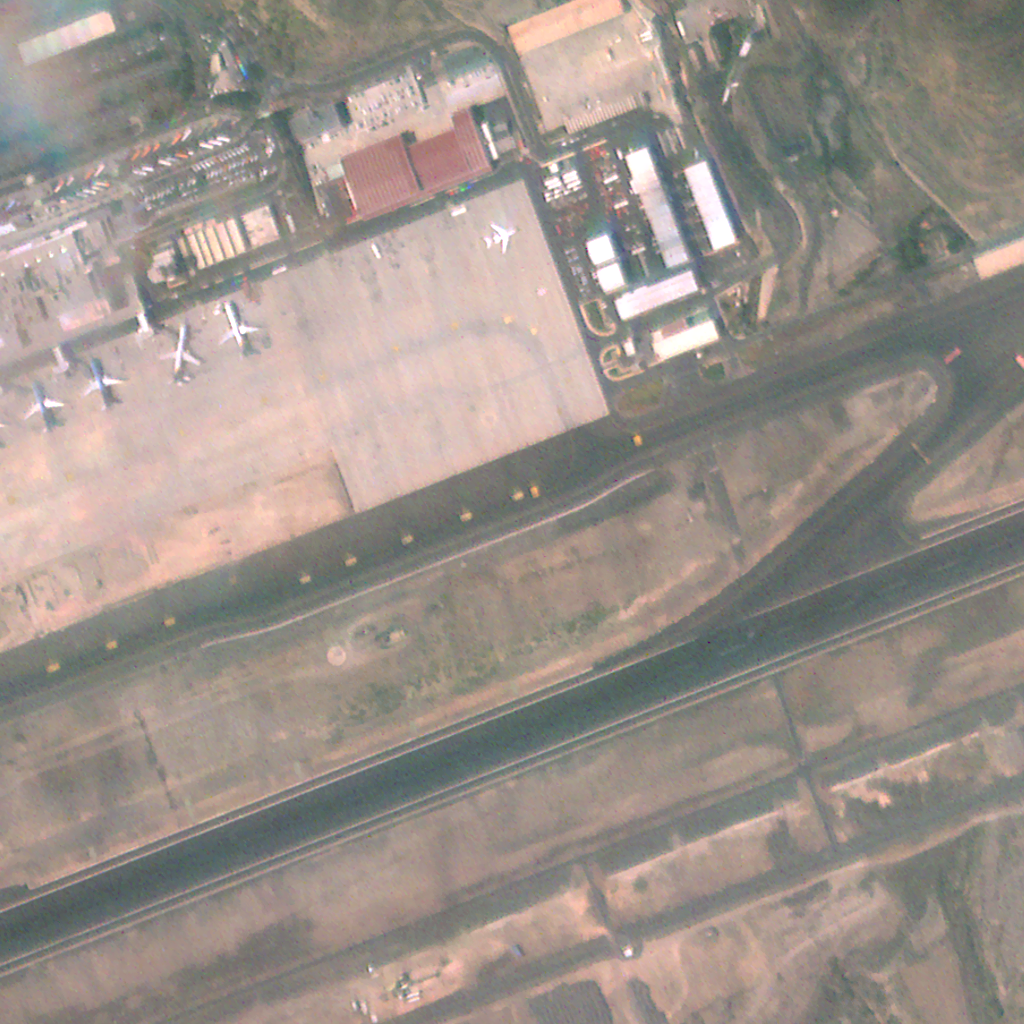plane: (217, 298, 268, 358), (24, 374, 67, 435), (85, 358, 128, 415), (163, 322, 200, 387), (485, 224, 520, 252)
